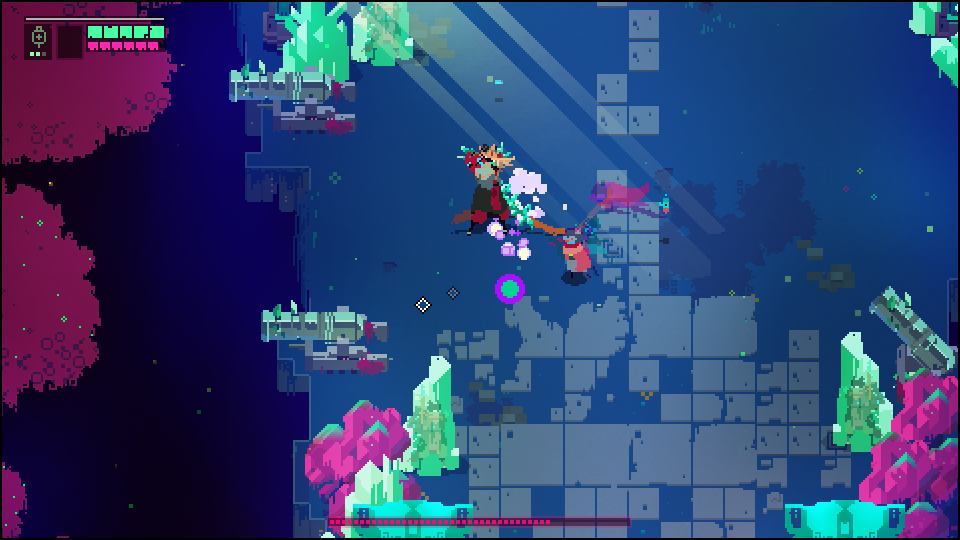hanged_man: (454, 136, 535, 238)
hanged_shot: (494, 271, 526, 307)
player: (558, 233, 601, 284)
